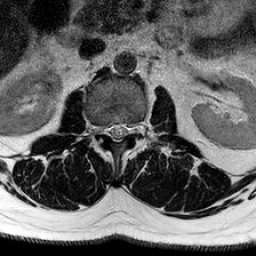CCS_normal: (114, 113, 121, 149)
LFS_normal: (129, 110, 137, 141)
LLS_normal: (121, 113, 129, 144)
RFS_normal: (98, 114, 106, 141)
RLS_normal: (106, 115, 114, 144)
